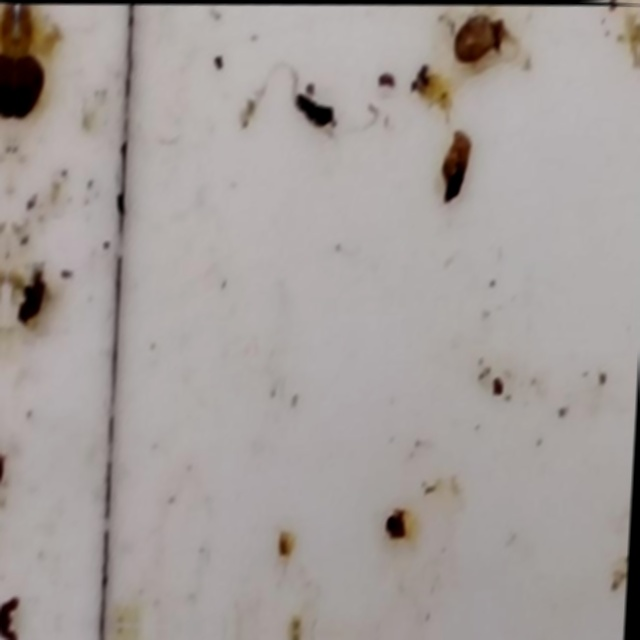varroa: (14, 48, 46, 118)
